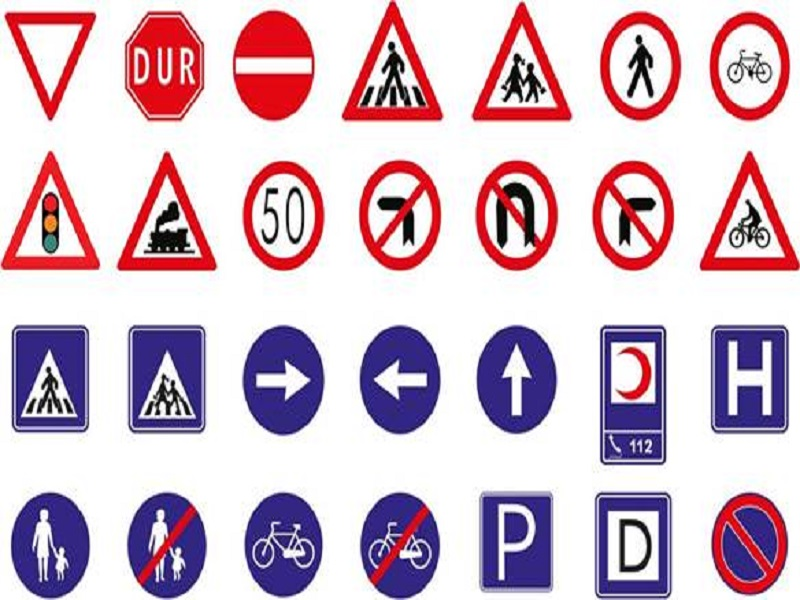sagaDon: (233, 322, 331, 441)
solaDon: (355, 321, 444, 437)
